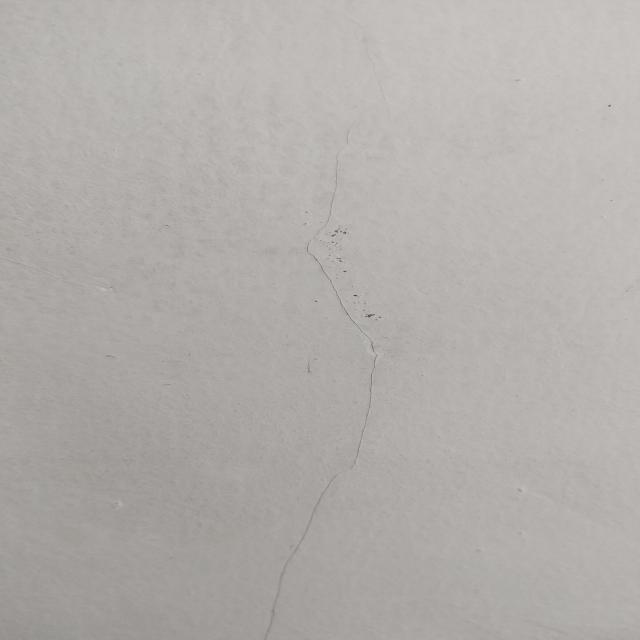Crack: (271, 140, 292, 409)
